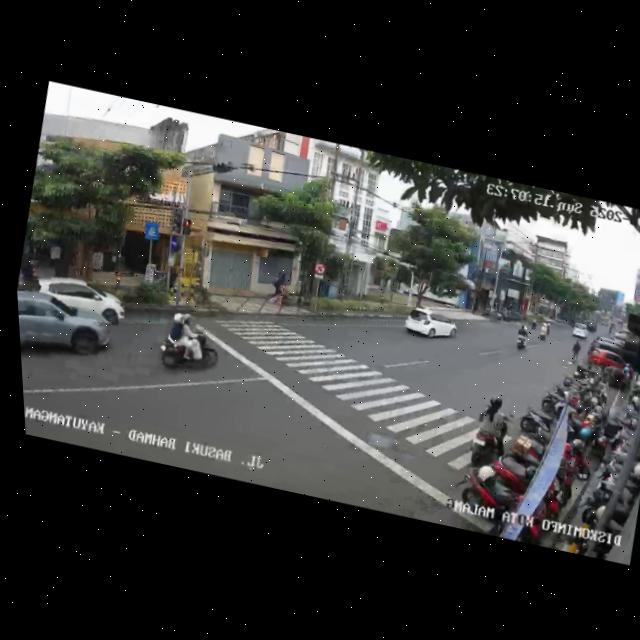car: (17, 283, 117, 373), (27, 267, 132, 328), (399, 303, 460, 347), (583, 336, 636, 382), (568, 319, 590, 339)
motorcycle: (150, 304, 225, 380), (465, 393, 514, 469), (511, 320, 534, 352), (535, 317, 553, 342)
person: (567, 338, 583, 366)
